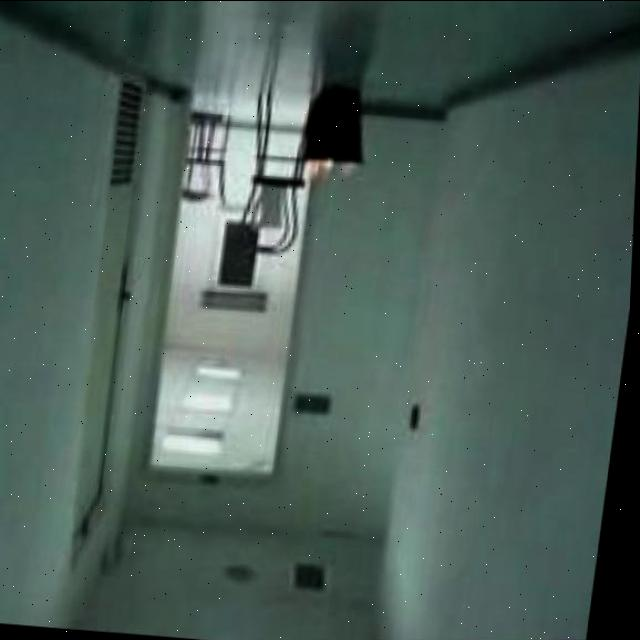fire: (307, 160, 363, 182)
